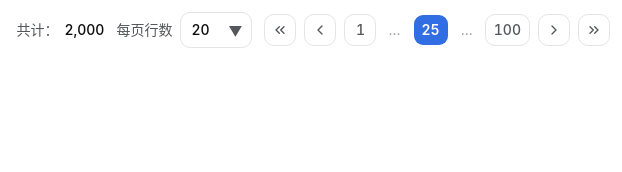
Scenario: shared pagination › keeps the summary, selected page and navigation in sync
This screenshot has width=622, height=172.
Expected: the navigation bar named "分页" is shown, x1=16 y1=12 x2=610 y2=48
Click the 3rd button named "下一页" at (554, 30), box x1=538 y1=14 x2=570 y2=46
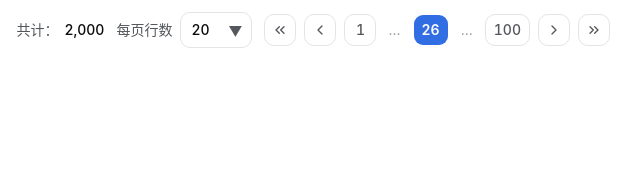
Click the 2nd button named "上一页" at (320, 30), box x1=304 y1=14 x2=336 y2=46
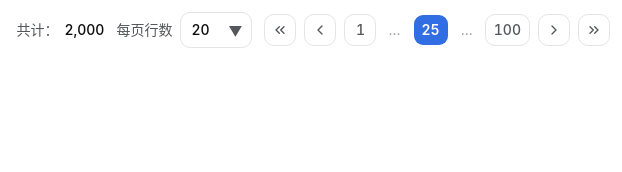
Click the button named "前往第 100 页" at (507, 30), box x1=485 y1=14 x2=530 y2=46
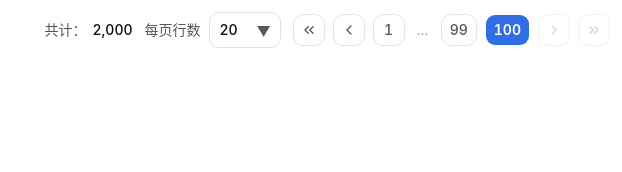
Expected: the 3rd button named "下一页" is disabled, x1=538 y1=14 x2=570 y2=46
Expected: the 4th button named "最后一页" is disabled, x1=578 y1=14 x2=610 y2=46
Click the 1st button named "第一页" at (308, 30), box x1=292 y1=14 x2=324 y2=46
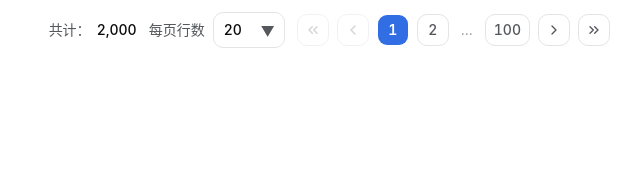
Expected: the 2nd button named "上一页" is disabled, x1=337 y1=14 x2=369 y2=46
Expected: the 1st button named "第一页" is disabled, x1=297 y1=14 x2=329 y2=46
